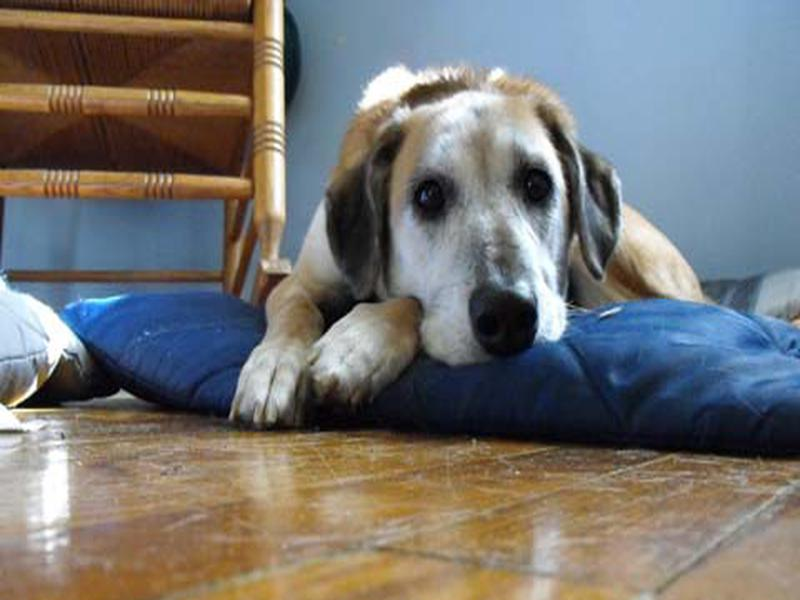dog_down: (224, 63, 708, 433)
